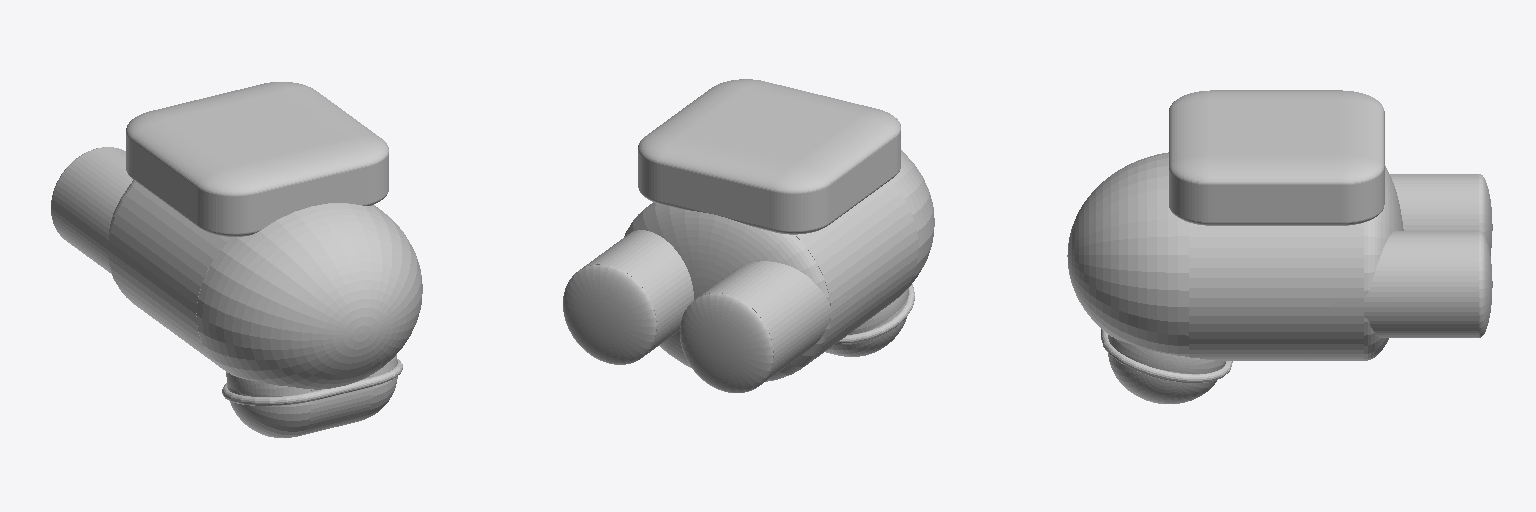
File: character_teal.obj
3 views of the same model, side by side, from view 1: azimuth 30°, elevation 25°; view 2: azimuth 150°, elevation 25°; view 3: azimuth 270°, elevation 25° (orthographic).
Visible parts, largest first — view 1: obj_0; view 2: obj_0; view 3: obj_0.
Boxes of the visible parts, <box> form: obj_0: <box>51,82,422,437</box>; obj_0: <box>563,79,934,392</box>; obj_0: <box>1067,90,1492,403</box>.
Size of the model in its own units: 18 by 21 by 31.5.